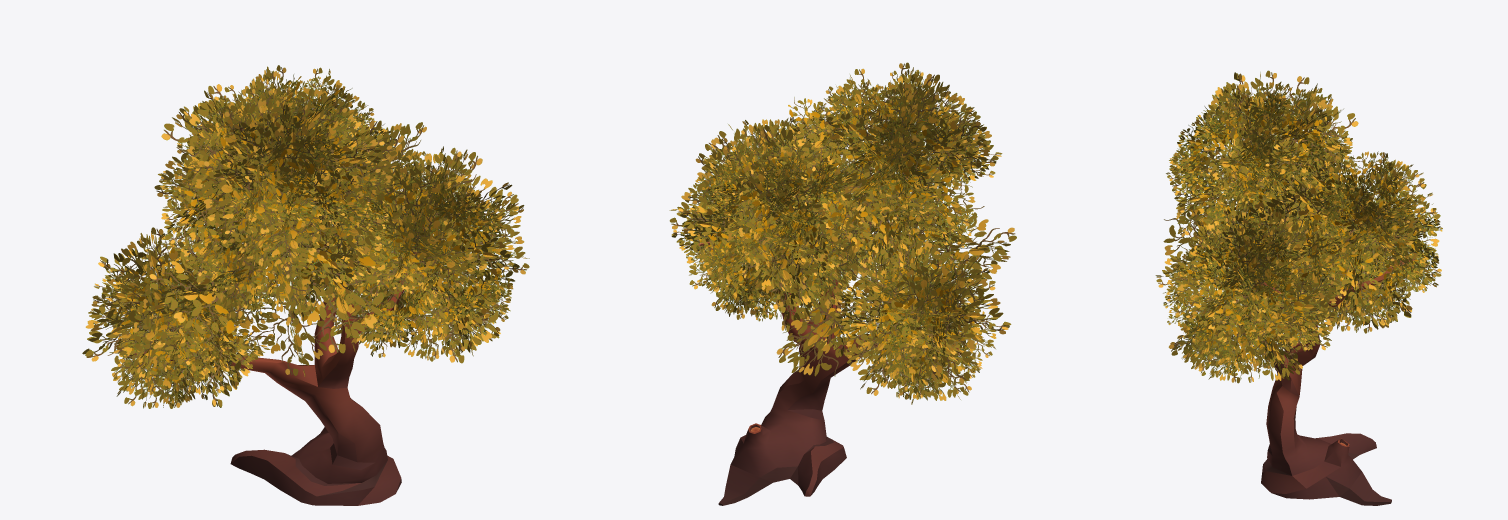
File: Tree_4C.fbx
The picture shows the model from 3 angles, left to right: view 1: azimuth 30°, elevation 25°; view 2: azimuth 150°, elevation 25°; view 3: azimuth 270°, elevation 25°; orthographic projection. The views are drawn at different scales.
Visible parts, largest first — view 1: Tree_4C; view 2: Tree_4C; view 3: Tree_4C.
Part boxes in pixels (x1,y1,x2,y2): Tree_4C: (82, 65, 529, 505); Tree_4C: (669, 62, 1016, 505); Tree_4C: (1155, 70, 1442, 505).
Size of the model in its own units: 1469 by 1478 by 1226.
